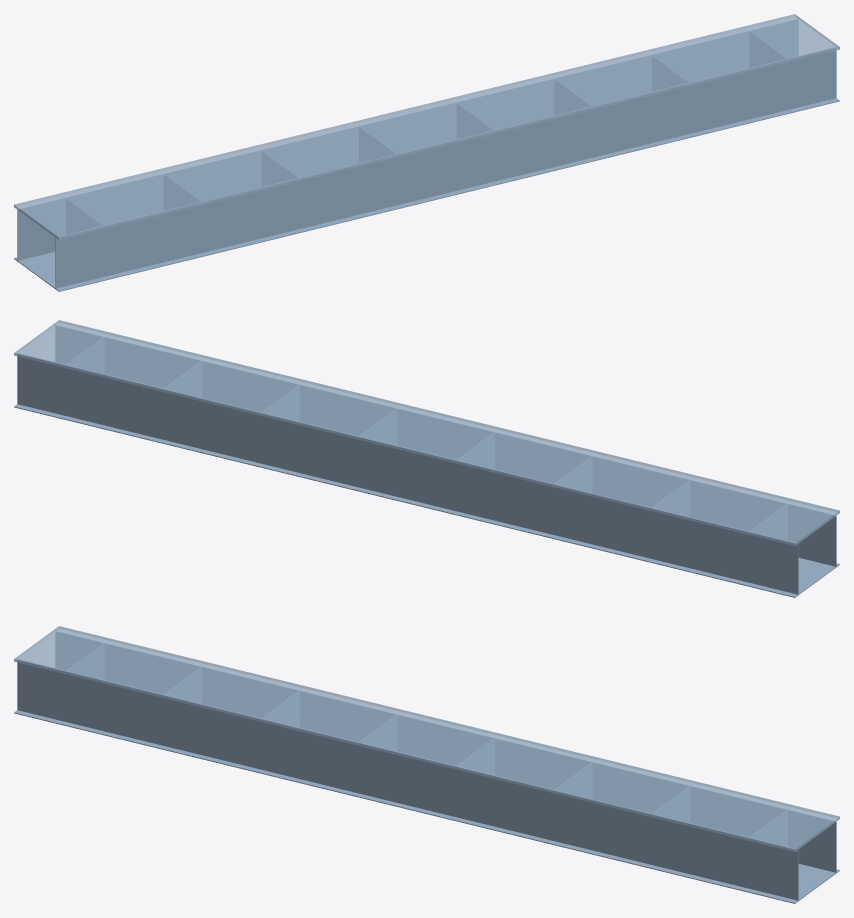
File: box-girder.glb
The picture shows the model from 3 angles, top to bottom: view 1: azimuth 30°, elevation 25°; view 2: azimuth 150°, elevation 25°; view 3: azimuth 330°, elevation 25°; orthographic projection.
Parts seen in each view (by area): view 1: Web_L, TopFlange, Web_R, Soffit, Diaph_0, Diaph_3, Diaph_6, Diaph_1, Diaph_4, Diaph_7, Diaph_2, Diaph_5; view 2: Web_R, TopFlange, Web_L, Soffit, Diaph_0, Diaph_3, Diaph_1, Diaph_6, Diaph_2, Diaph_4, Diaph_7, Diaph_5; view 3: Web_L, TopFlange, Web_R, Soffit, Diaph_7, Diaph_4, Diaph_6, Diaph_1, Diaph_5, Diaph_0, Diaph_3, Diaph_2.
Boxes of the visible parts, x1,y1,x2,y2 form: Web_L: (55, 47, 836, 288); TopFlange: (14, 14, 839, 239); Web_R: (17, 19, 797, 260); Soffit: (14, 98, 839, 291); Diaph_0: (66, 198, 103, 233); Diaph_3: (359, 126, 396, 162); Diaph_6: (652, 55, 689, 90); Diaph_1: (164, 174, 201, 210); Diaph_4: (457, 103, 493, 138); Diaph_7: (750, 31, 787, 67); Diaph_2: (262, 150, 299, 186); Diaph_5: (554, 79, 591, 114); Web_R: (17, 353, 798, 594); TopFlange: (14, 320, 839, 545); Web_L: (56, 325, 836, 566); Soffit: (14, 404, 839, 597); Diaph_0: (750, 504, 787, 539); Diaph_3: (457, 433, 494, 468); Diaph_1: (652, 480, 689, 516); Diaph_6: (164, 361, 201, 396); Diaph_2: (555, 456, 591, 492); Diaph_4: (360, 409, 396, 444); Diaph_7: (66, 337, 103, 373); Diaph_5: (262, 385, 299, 420); Web_L: (17, 659, 798, 900); TopFlange: (14, 626, 839, 851); Web_R: (56, 631, 836, 872); Soffit: (14, 710, 839, 903); Diaph_7: (750, 810, 787, 845); Diaph_4: (457, 739, 494, 774); Diaph_6: (652, 786, 689, 822); Diaph_1: (164, 667, 201, 702); Diaph_5: (555, 762, 591, 798); Diaph_0: (67, 643, 103, 679); Diaph_3: (360, 715, 396, 750); Diaph_2: (262, 691, 299, 726).
Size of the model in its own units: 1.2 by 0.0799 by 0.12.
